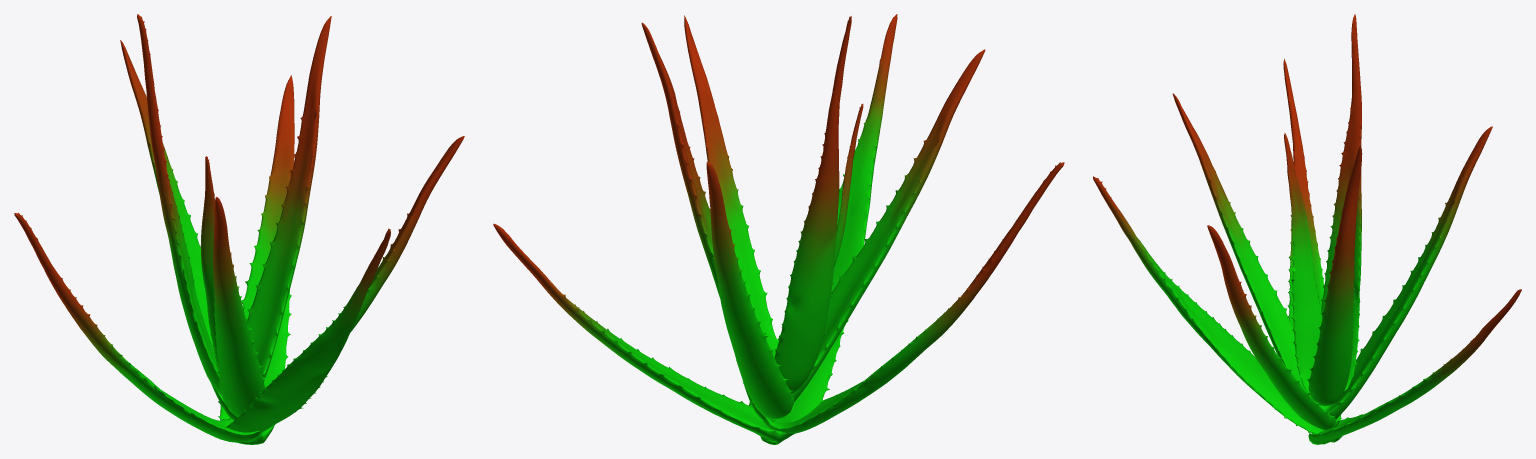
Rendered from Aloe Vera_LOD1_Var2_ve4tbbrha.fbx.
3 renders of one model, left to right at view 1: azimuth 30°, elevation 25°; view 2: azimuth 150°, elevation 25°; view 3: azimuth 270°, elevation 25°, orthographic. The views are drawn at different scales.
Visible parts, largest first — view 1: _j2lt_Var2_LOD1; view 2: _j2lt_Var2_LOD1; view 3: _j2lt_Var2_LOD1.
Boxes of the visible parts, x1,y1,x2,y2 form: _j2lt_Var2_LOD1: (14,14,464,444); _j2lt_Var2_LOD1: (493,14,1064,444); _j2lt_Var2_LOD1: (1093,14,1521,444).
Size of the model in its own units: 49.46 by 50.62 by 50.5.
